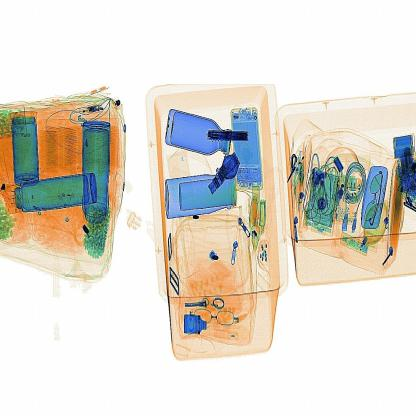scissors: (201, 127, 256, 154)
